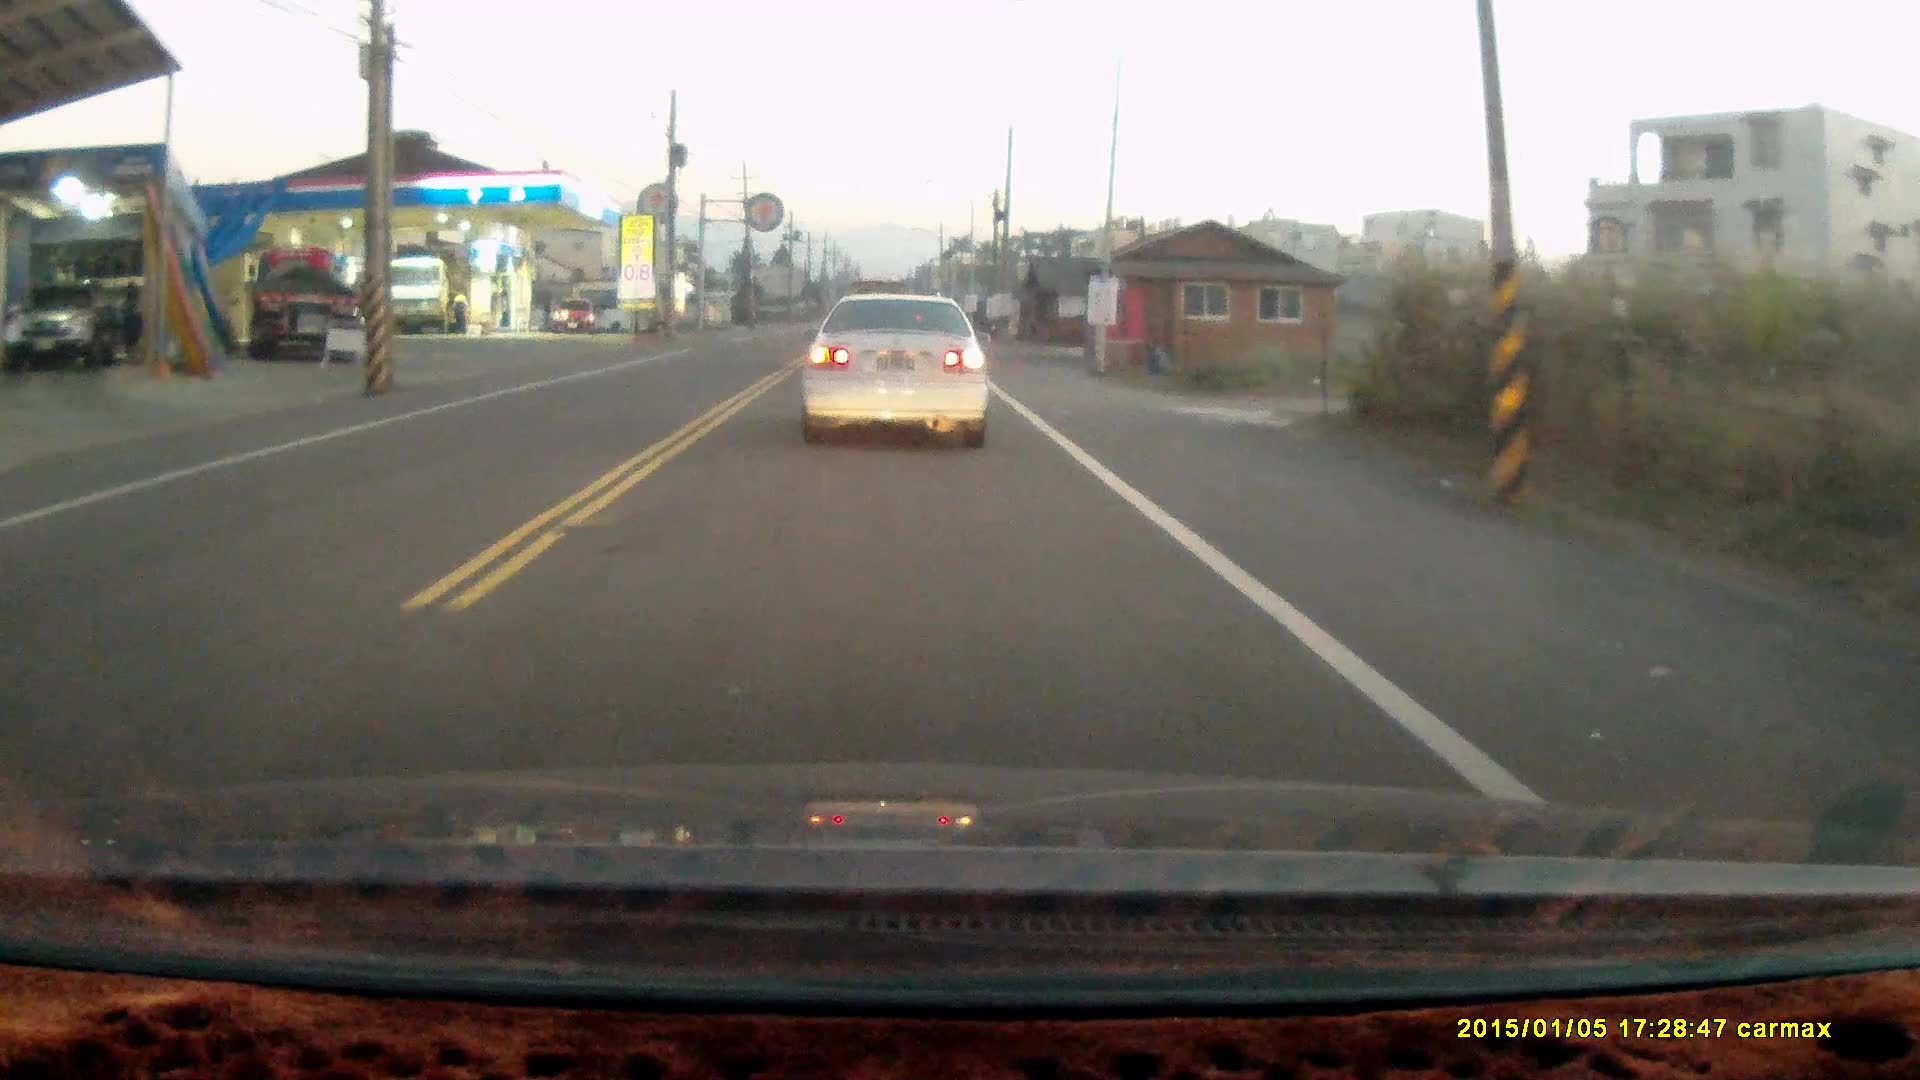pedestrian: (449, 286, 470, 332)
vehicle: (795, 285, 995, 450), (245, 244, 359, 357), (384, 254, 463, 338), (554, 300, 597, 336)
